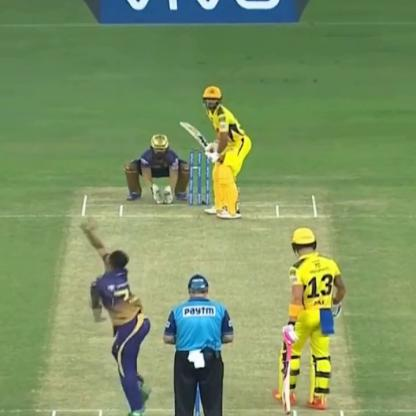bat: (178, 115, 219, 165), (278, 323, 298, 414)
pitch: (37, 195, 340, 415)
